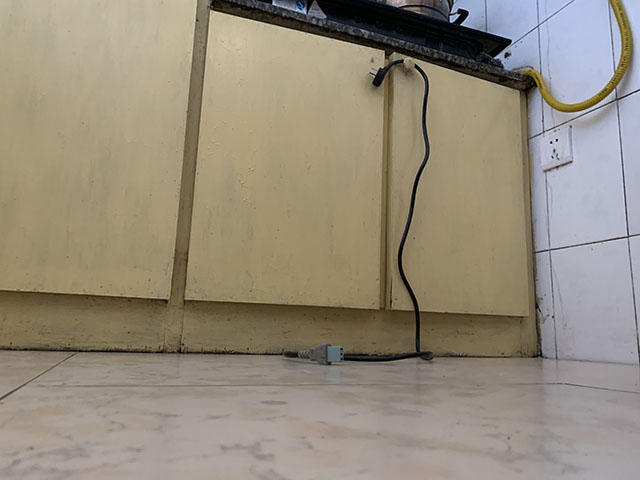cabinet: (1, 1, 543, 360)
wire: (283, 58, 435, 367)
